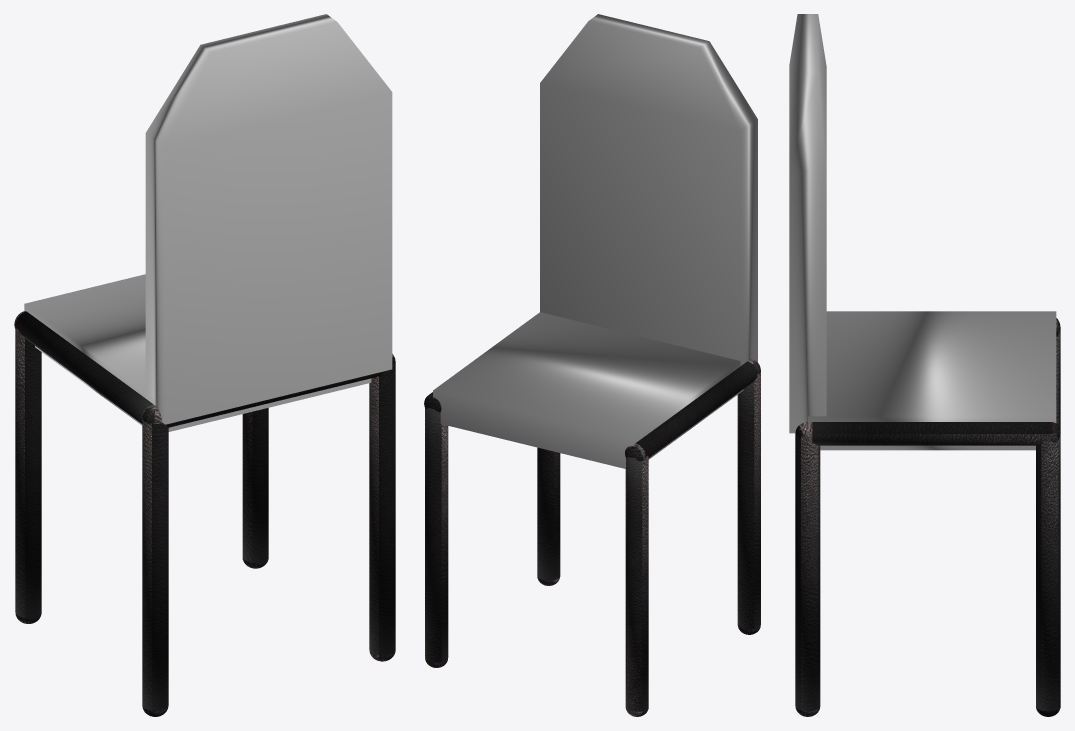
Rendered from cadira.fbx.
3 views of the same model, side by side, from view 1: azimuth 30°, elevation 25°; view 2: azimuth 150°, elevation 25°; view 3: azimuth 270°, elevation 25° (orthographic). The views are drawn at different scales.
Visible parts, largest first — view 1: Cube, Sphere; view 2: Cube, Sphere; view 3: Cube, Sphere.
Part boxes in pixels (x1,y1,x2,y2): Cube: [24, 14, 392, 431]; Sphere: [14, 311, 395, 716]; Cube: [433, 14, 757, 468]; Sphere: [424, 359, 760, 716]; Cube: [789, 14, 1056, 450]; Sphere: [795, 318, 1060, 716].
Bounding box in the file's own units: 2.2 × 5.51 × 2.19.
